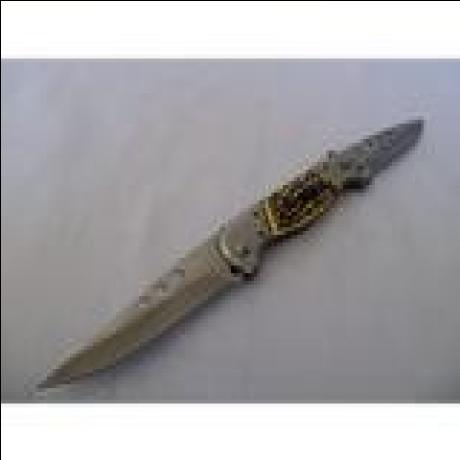weapon: (40, 115, 423, 391)
